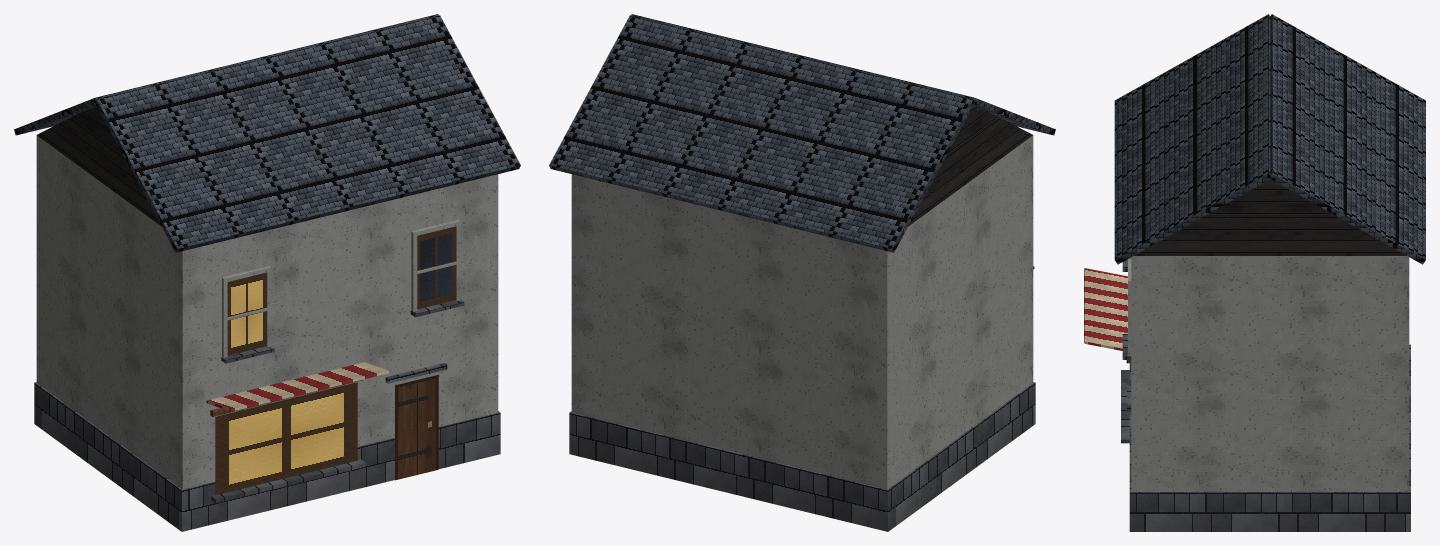
Rendered from perdidos.obj.
The picture shows the model from 3 angles, left to right: view 1: azimuth 30°, elevation 25°; view 2: azimuth 150°, elevation 25°; view 3: azimuth 270°, elevation 25°; orthographic projection. The views are drawn at different scales.
Visible parts, largest first — view 1: perdidos; view 2: perdidos; view 3: perdidos.
Boxes of the visible parts, x1,y1,x2,y2 form: perdidos: (14, 14, 520, 531); perdidos: (549, 14, 1055, 531); perdidos: (1084, 14, 1425, 531).
Bounding box in the file's own units: 8.7 × 9.26 × 7.88.
Materials: 9 (9 with a texture image).
